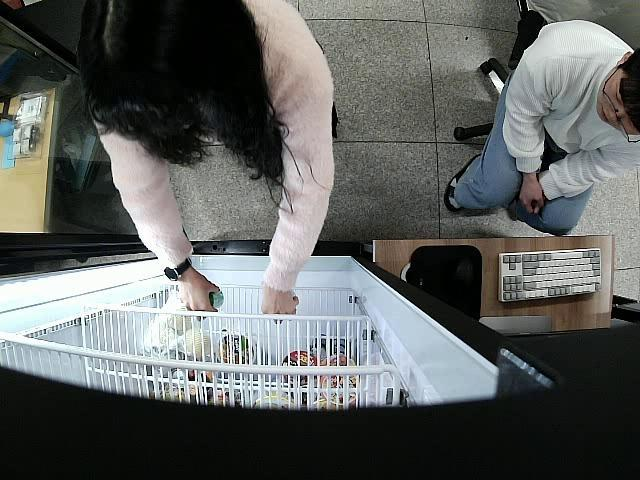12_chilsungCider: (205, 288, 224, 310)
